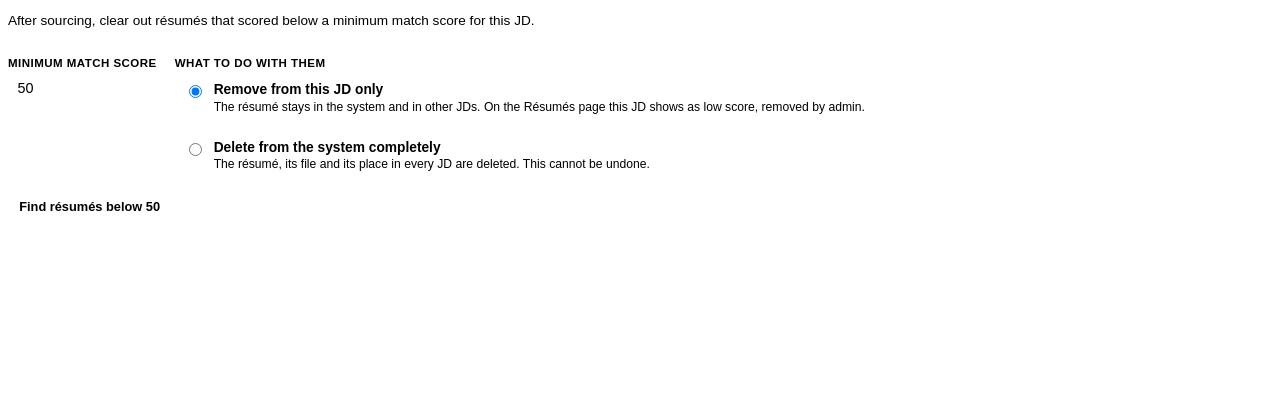
Test: LowMatchCleanup › cancel drops the preview without removing anything
This screenshot has width=1264, height=414.
Step 1. Click the button "Find résumés below 50" → click(90, 207), box [8, 194, 171, 219]
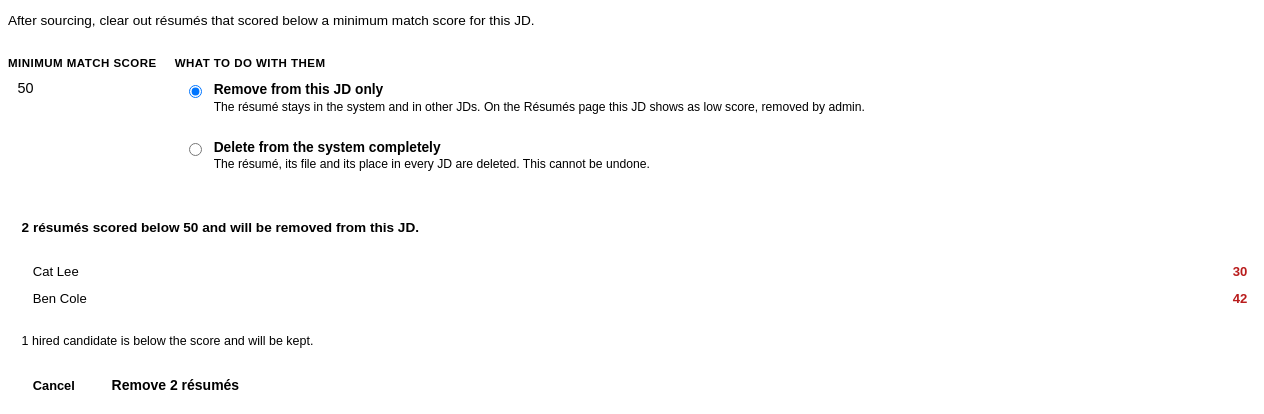
Step 2. Click the button "Cancel" → click(54, 385), box [22, 373, 86, 398]
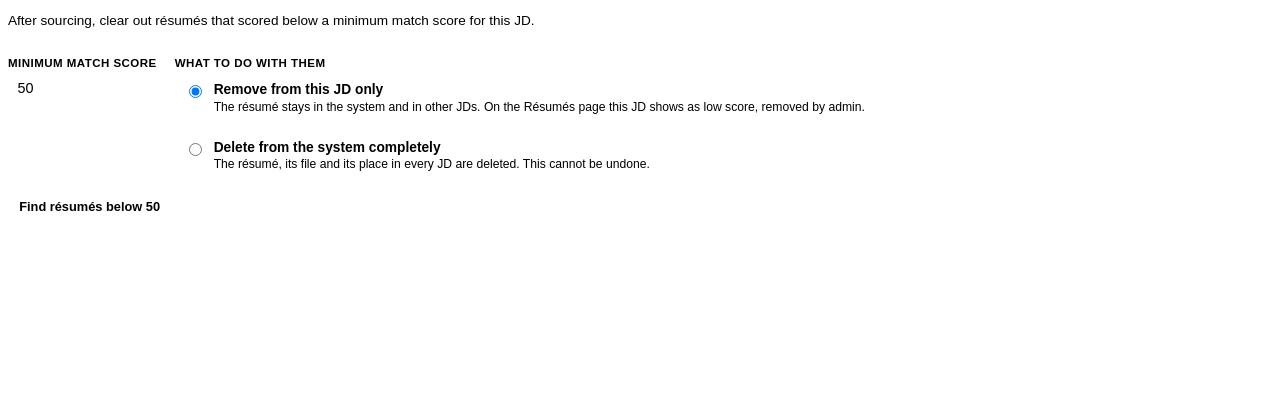
Expected: the text "Cat Lee" is gone
